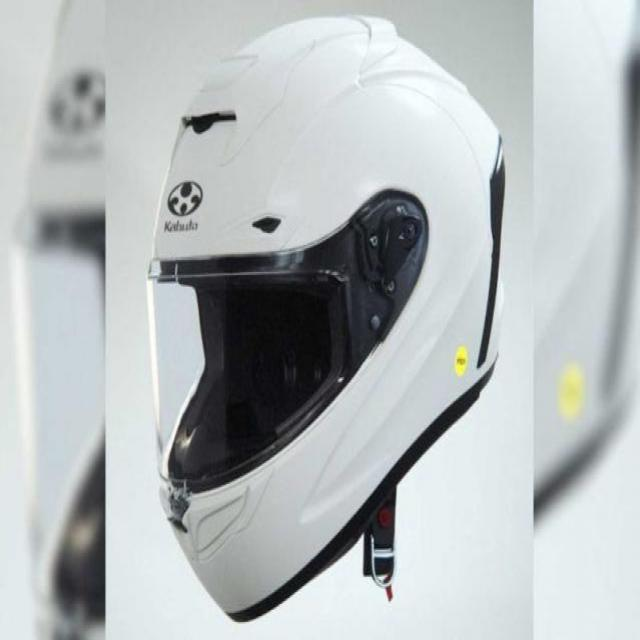Helm: (143, 12, 510, 626)
